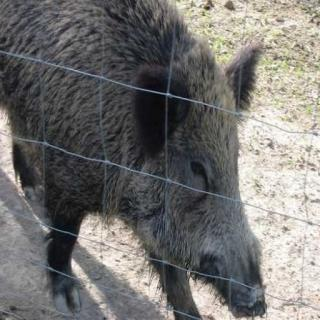Pig: (2, 2, 266, 320)
